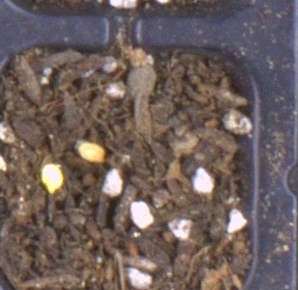chilli seed: (40, 163, 65, 194), (77, 141, 107, 164)
